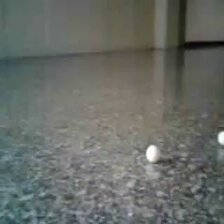w: (145, 144, 161, 162), (217, 130, 224, 145)
